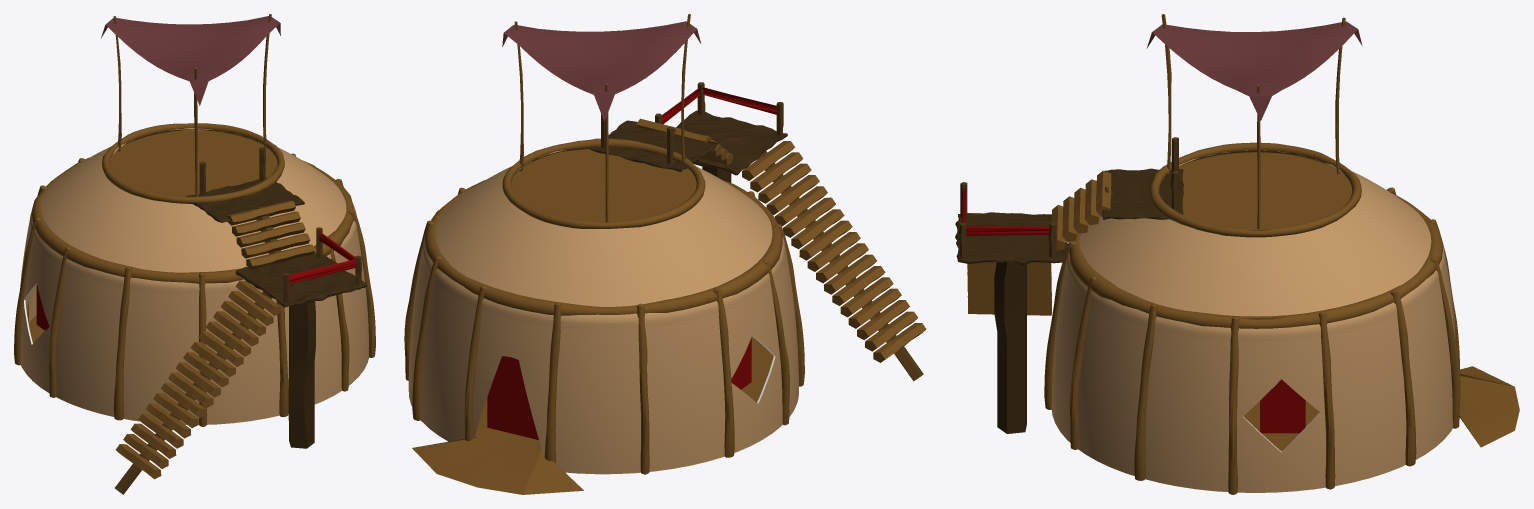
File: house-viewpoint-v2.fbx
3 views of the same model, side by side, from view 1: azimuth 30°, elevation 25°; view 2: azimuth 150°, elevation 25°; view 3: azimuth 270°, elevation 25° (orthographic). The views are drawn at different scales.
Visible parts, largest first — view 1: Oil_Tank, zweiter_boden, plane, Stamm, ast_oben, plattform_unten, ast_oben_2, plattform__oben, Cylinder_5, Cylinder_1_6, absperre_plattform, Cylinder_3 (+29 smaller); view 2: Oil_Tank, zweiter_boden, plane, boden, ast_oben, ast_oben_2, plattform_unten, türe, plattform__oben, Cylinder_7, Cylinder_1_8, Cylinder_9 (+25 smaller); view 3: Oil_Tank, zweiter_boden, plane, ast_oben, Stamm, boden, ast_oben_2, plattform_unten, plattform__oben, vorhang_rechts, Cylinder_1_4, Cylinder_11 (+6 smaller).
Boxes of the visible parts, <box> form: Oil_Tank: <box>20,128,368,424</box>; zweiter_boden: <box>110,130,277,196</box>; plane: <box>101,16,280,105</box>; Stamm: <box>288,301,315,448</box>; ast_oben: <box>32,157,353,283</box>; plattform_unten: <box>235,252,367,307</box>; ast_oben_2: <box>102,123,284,203</box>; plattform__oben: <box>186,177,304,222</box>; Cylinder_5: <box>113,266,131,420</box>; Cylinder_1_6: <box>49,246,70,397</box>; absperre_plattform: <box>289,232,356,283</box>; Cylinder_3: <box>276,301,288,417</box>; Oil_Tank: <box>408,150,798,474</box>; zweiter_boden: <box>511,149,696,222</box>; plane: <box>502,21,700,121</box>; boden: <box>412,336,773,494</box>; ast_oben: <box>425,180,782,315</box>; ast_oben_2: <box>502,138,705,228</box>; plattform_unten: <box>676,110,787,175</box>; türe: <box>487,356,538,439</box>; plattform__oben: <box>589,120,717,171</box>; Cylinder_7: <box>713,288,734,457</box>; Cylinder_1_8: <box>637,303,649,474</box>; Cylinder_9: <box>544,302,561,463</box>; Oil_Tank: <box>1051,150,1455,492</box>; zweiter_boden: <box>1179,152,1352,228</box>; plane: <box>1146,21,1362,120</box>; ast_oben: <box>1069,193,1442,328</box>; Stamm: <box>994,261,1026,433</box>; boden: <box>1243,366,1519,451</box>; ast_oben_2: <box>1150,142,1361,237</box>; plattform_unten: <box>955,212,1068,265</box>; plattform__oben: <box>1102,168,1183,219</box>; vorhang_rechts: <box>1260,379,1305,433</box>; Cylinder_1_4: <box>1134,303,1158,480</box>; Cylinder_11: <box>1390,289,1416,466</box>.
Bounding box in the file's own units: 898 × 871 × 1118.
